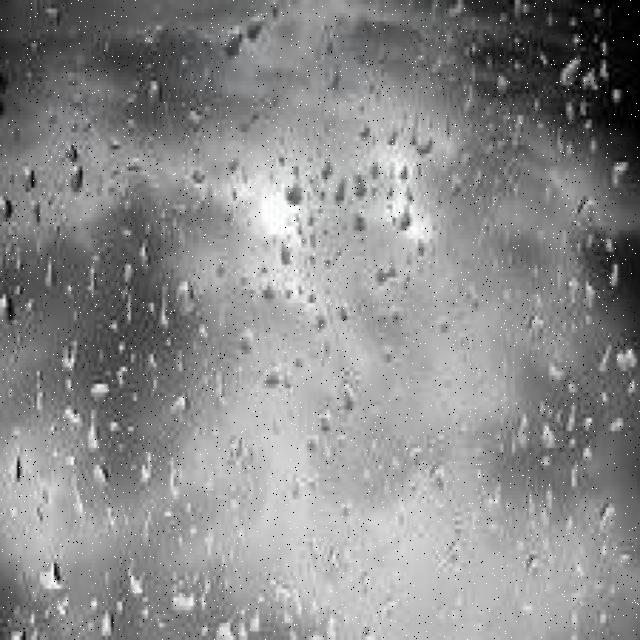raindrop: (499, 404, 536, 470), (421, 450, 465, 501), (130, 552, 164, 612), (172, 268, 204, 324), (140, 60, 174, 111), (86, 367, 124, 410), (556, 41, 588, 92), (32, 558, 69, 602), (606, 147, 634, 205), (614, 327, 640, 388), (56, 337, 84, 387), (64, 152, 90, 205), (169, 386, 201, 428), (284, 155, 306, 213), (0, 287, 23, 333), (5, 450, 28, 494)
